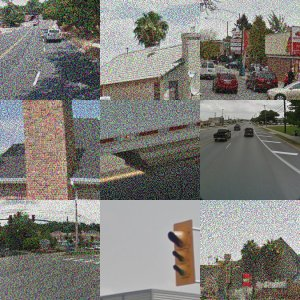公車: (217, 224, 287, 278), (115, 110, 159, 150), (259, 13, 293, 48)
汽車: (139, 56, 201, 90), (115, 256, 147, 279)
紅綠燈: (9, 102, 57, 179)
